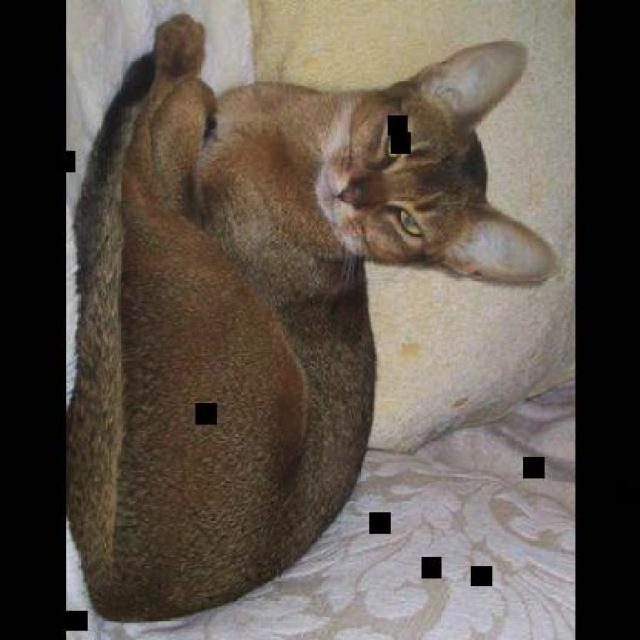unauthorized: (64, 12, 558, 622)
